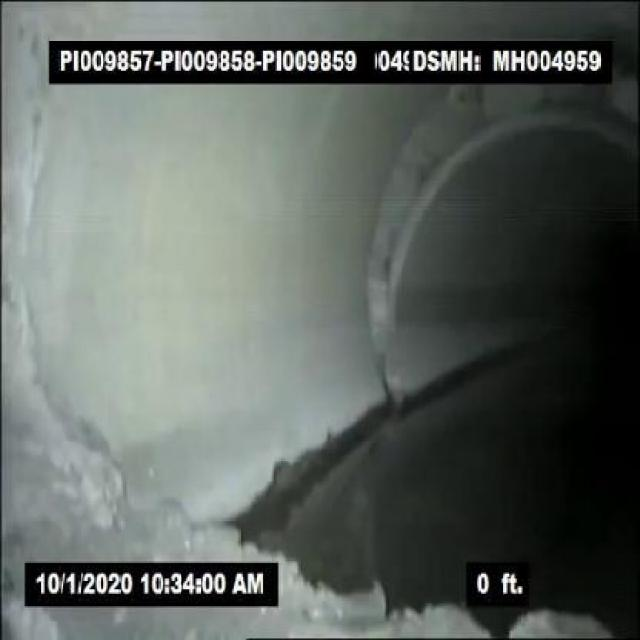Joint offset: (395, 91, 634, 174), (363, 180, 434, 374)
